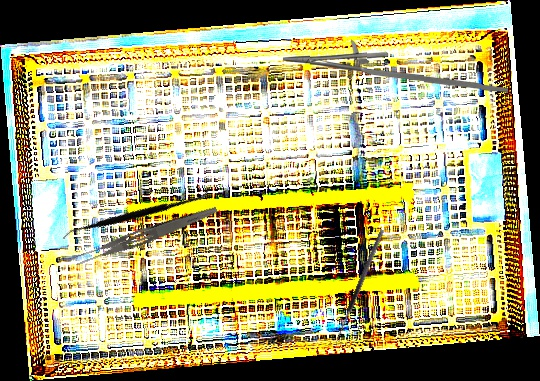Dressing Forceps: (71, 199, 220, 270)
Hook Surgical: (332, 228, 391, 349)
Needle Holder: (282, 39, 509, 93)
Spatula Surgical: (60, 135, 212, 291)
